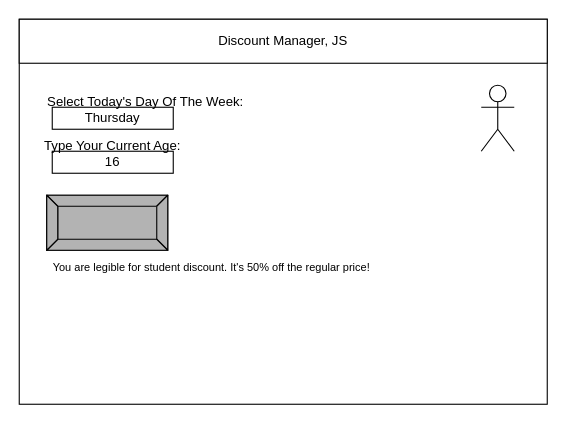
This 567x424 diagram has some shape labels left out. Here are the shapes that lost their labels. From the top down, the centre of each, then its label:
At (x=497, y=117): "Discount Tag".
At (x=107, y=222): "Am I Eligible?".
